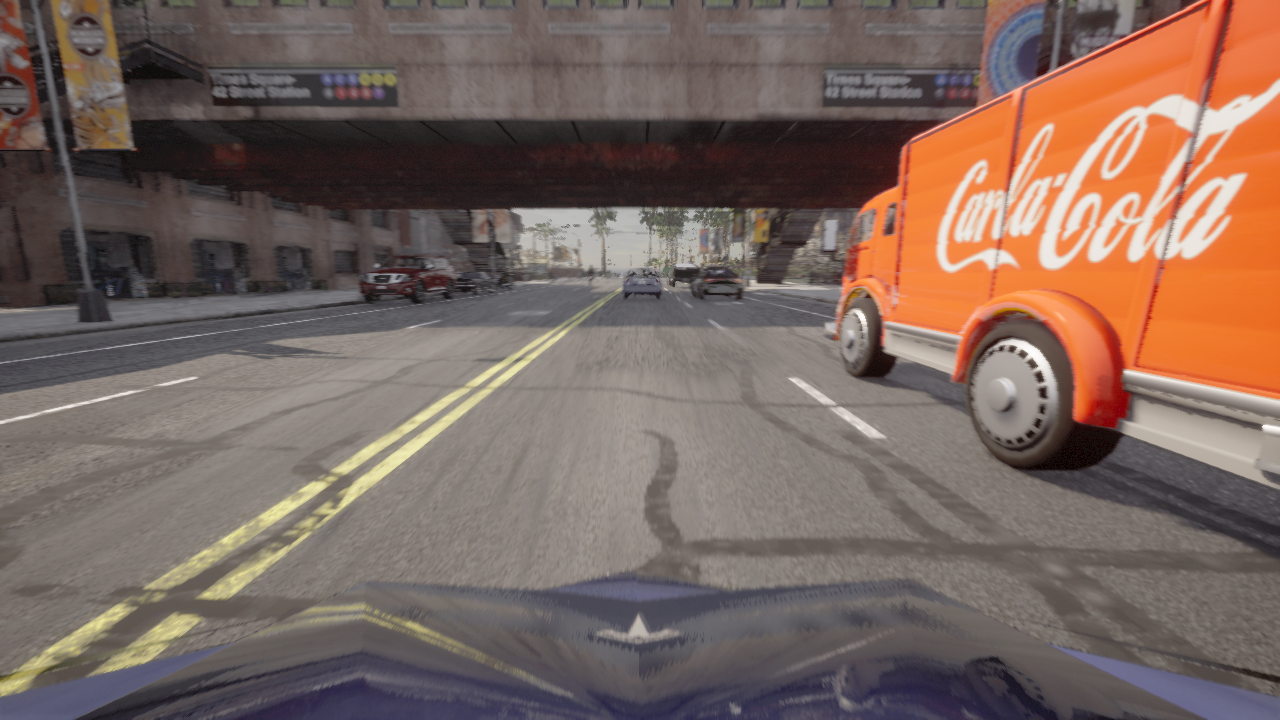cyclist: (821, 0, 1279, 489), (0, 569, 1279, 719), (359, 254, 455, 302), (691, 266, 744, 300), (623, 268, 661, 298), (455, 272, 496, 294), (668, 263, 699, 287), (494, 274, 514, 289), (590, 275, 592, 288), (700, 269, 703, 273), (494, 274, 496, 278), (548, 274, 549, 276)
